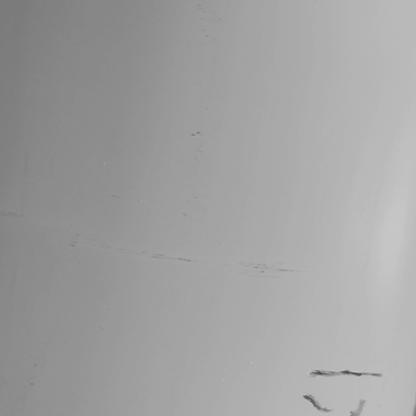fengxi: (305, 368, 384, 381), (303, 394, 336, 413), (345, 397, 369, 416)
